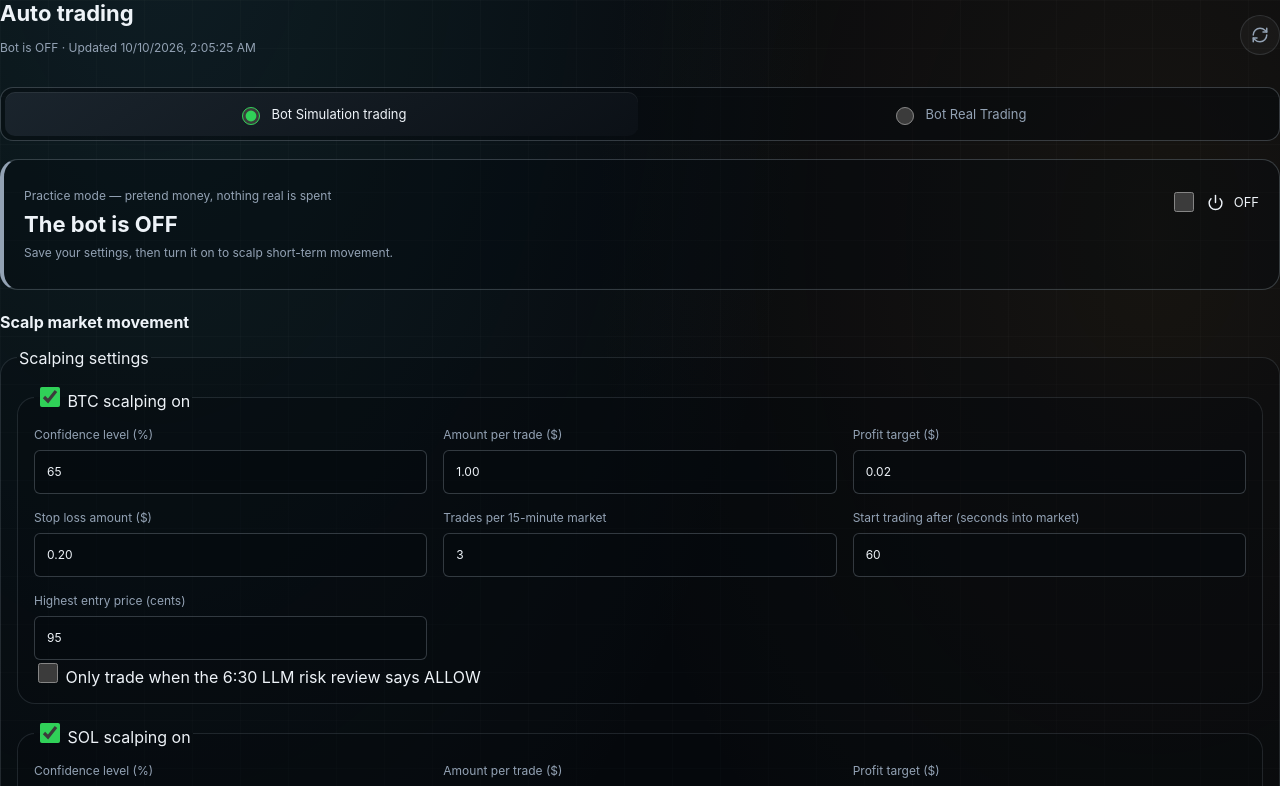
Test: Trading tab › treats a response missing a mode as an error
Click the button named "Refresh" at coordinates (1260, 35), box [1240,15,1279,55]
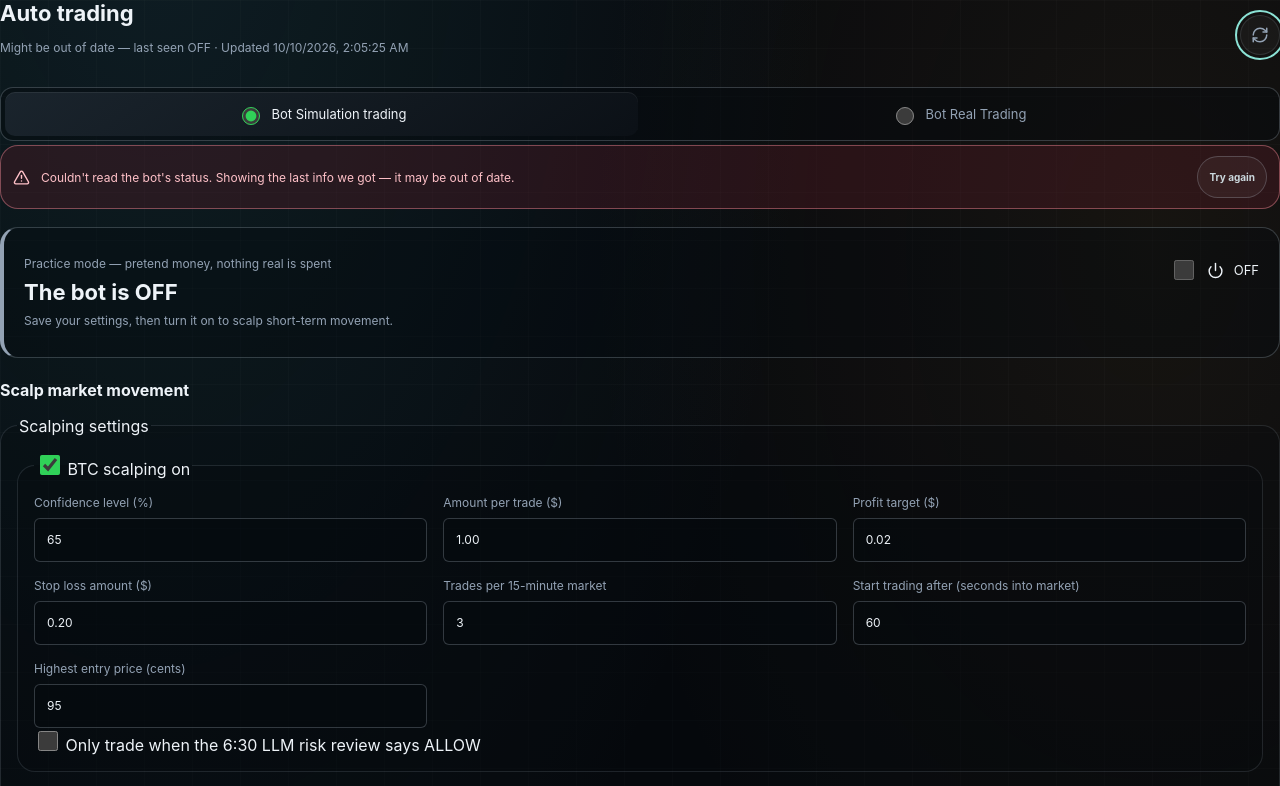
Now the text "Couldn't read the bot's status" is shown, box [41,170,209,185]
Now the switch is disabled, box [1174,260,1194,280]
Click the button "Try again" at coordinates (1232, 177), box [1197,156,1267,198]
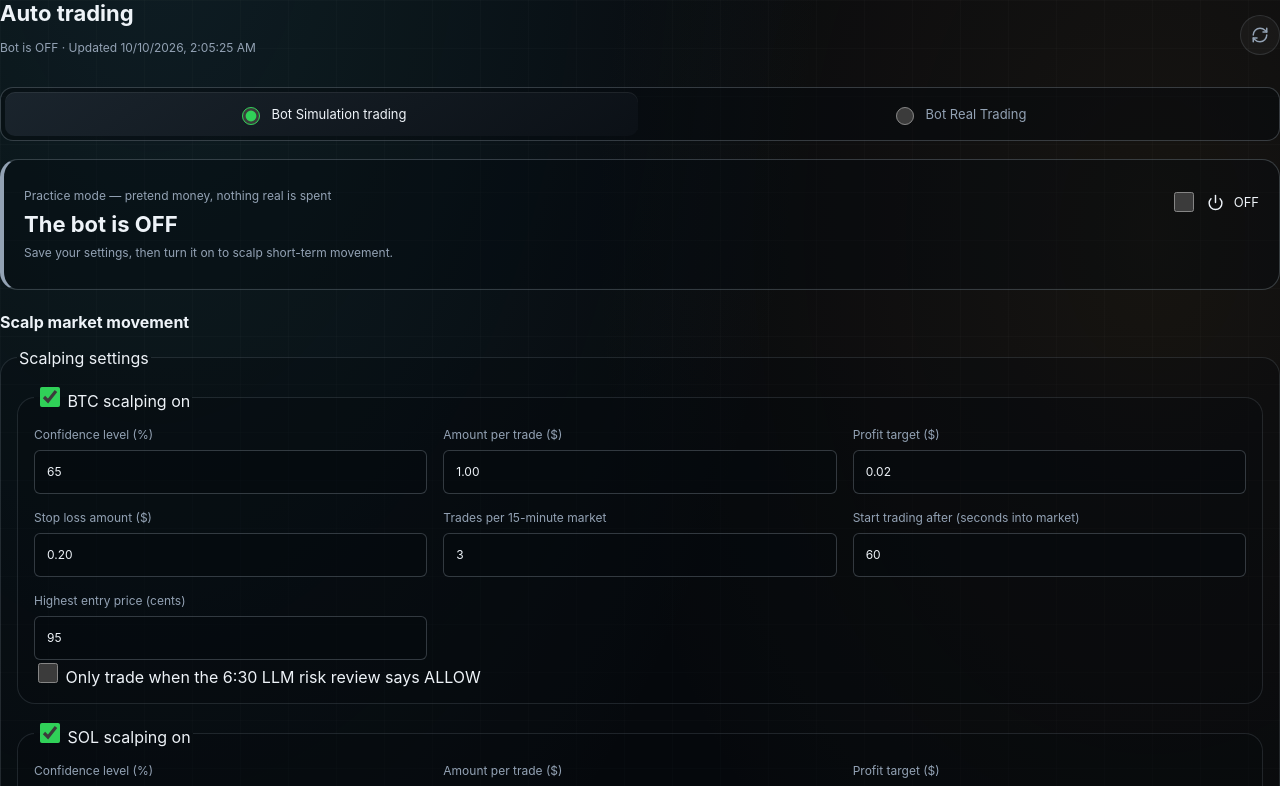
Now the switch is enabled, box [1174,192,1194,212]
